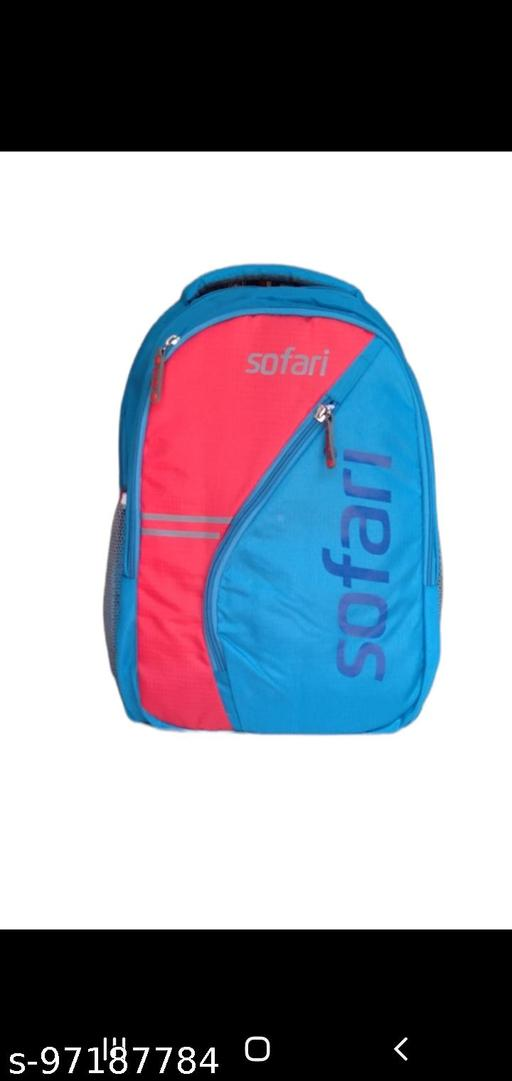backpack: (102, 261, 443, 735)
